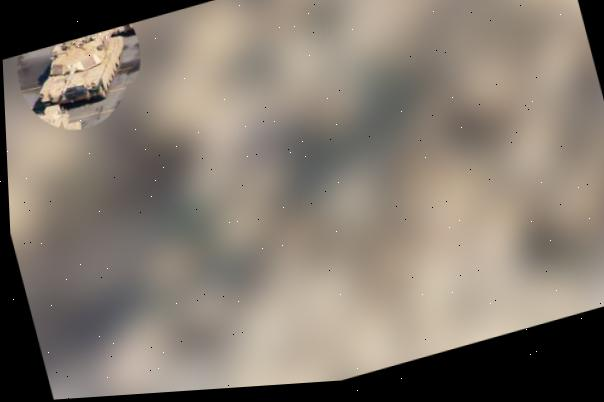tank: (24, 25, 141, 116)
